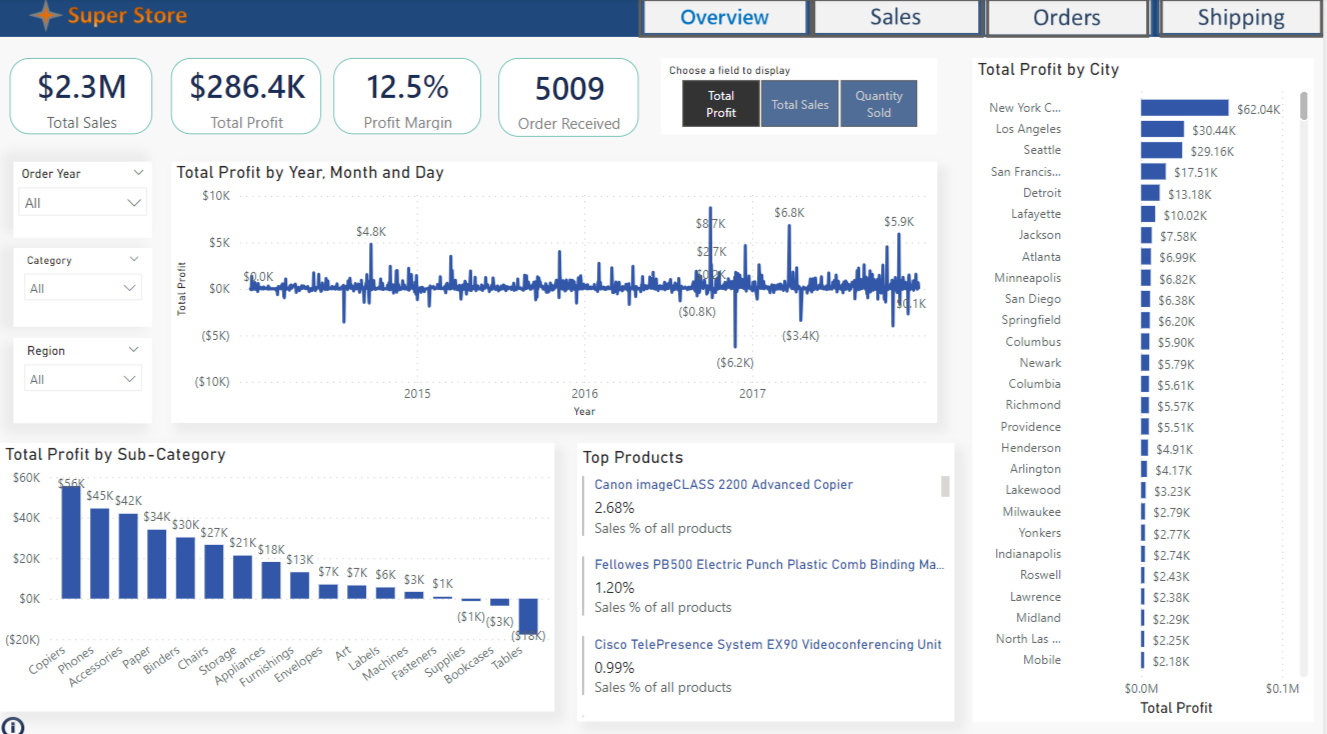

The dashboard page shown, as its layout file describes it:
{"tool":"powerbi","page":{"name":"Overview","canvas":[1280,720],"ordinal":0},"visuals":[{"type":"actionButton","box":[618.7,0,167.6,38.6],"z":0},{"type":"card","fields":{"Values":["Financial Measures.Total Sales"]},"box":[12.1,57.9,137.5,73.6],"z":1000},{"type":"actionButton","box":[954,0,158,38.6],"z":2000},{"type":"card","fields":{"Values":["Financial Measures.Total Profit"]},"box":[167.6,57.9,144.7,73.6],"z":3000},{"type":"actionButton","box":[786.3,0,165.2,38.6],"z":4000},{"type":"card","fields":{"Values":["Financial Measures.Profit Margin"]},"box":[324.4,57.9,142.3,73.6],"z":5000},{"type":"actionButton","box":[1121.6,0,158,38.6],"z":6000},{"type":"slicer","fields":{"Values":["Orders.Region"]},"box":[15.7,328,133.9,82],"z":7000},{"type":"card","fields":{"Values":["Financial Measures.Order Received"]},"box":[483.6,57.9,135.1,76],"z":8000},{"type":"actionButton","box":[0,688.6,30.2,31.4],"z":9000},{"type":"columnChart","fields":{"Y":["Financial Measures.Total Sales"],"Category":["Orders.Sub-Category"]},"box":[2.4,429.3,535.5,259.3],"z":10000},{"type":"barChart","fields":{"Y":["Financial Measures.Total Sales"],"Category":["Orders.City"]},"box":[940.7,57.9,329.2,640.4],"z":11000},{"type":"multiRowCard","title":"Top Products","fields":{"Values":["Orders.Product Name","Financial Measures.Sales % of all products"]},"box":[559.6,429.3,364.2,268.9],"z":12000},{"type":"lineChart","fields":{"Y":["Financial Measures.Total Sales"],"Category":["Orders.Order Date.Variation.Date Hierarchy.Year","Orders.Order Date.Variation.Date Hierarchy.Month","Orders.Order Date.Variation.Date Hierarchy.Day"]},"box":[167.6,158,739.3,252.1],"z":13000},{"type":"slicer","fields":{"Values":["sales parameter.sales parameter"]},"box":[640.4,57.9,266.5,73.6],"z":14000},{"type":"slicer","fields":{"Values":["Orders.Order Year"]},"box":[15.7,158,133.9,73.6],"z":15000},{"type":"slicer","fields":{"Values":["Orders.Category"]},"box":[15.7,241.2,133.9,76],"z":16000}]}

Visuals, with their boxes in screenshot pixels (x1, y1, x2, y2), scaled from the page's 1280x720 canvas onto the 1327x734 screenshot:
actionButton: bbox=[641, 0, 815, 39]
card - Financial Measures.Total Sales: bbox=[13, 59, 155, 134]
actionButton: bbox=[989, 0, 1153, 39]
card - Financial Measures.Total Profit: bbox=[174, 59, 324, 134]
actionButton: bbox=[815, 0, 986, 39]
card - Financial Measures.Profit Margin: bbox=[336, 59, 484, 134]
actionButton: bbox=[1163, 0, 1326, 39]
slicer - Orders.Region: bbox=[16, 334, 155, 418]
card - Financial Measures.Order Received: bbox=[501, 59, 641, 137]
actionButton: bbox=[0, 702, 31, 733]
columnChart - Financial Measures.Total Sales x Orders.Sub-Category: bbox=[2, 438, 558, 702]
barChart - Financial Measures.Total Sales x Orders.City: bbox=[975, 59, 1317, 712]
"Top Products" multiRowCard: bbox=[580, 438, 958, 712]
lineChart - Financial Measures.Total Sales x Orders.Order Date.Variation.Date Hierarchy.Year: bbox=[174, 161, 940, 418]
slicer - sales parameter.sales parameter: bbox=[664, 59, 940, 134]
slicer - Orders.Order Year: bbox=[16, 161, 155, 236]
slicer - Orders.Category: bbox=[16, 246, 155, 323]
